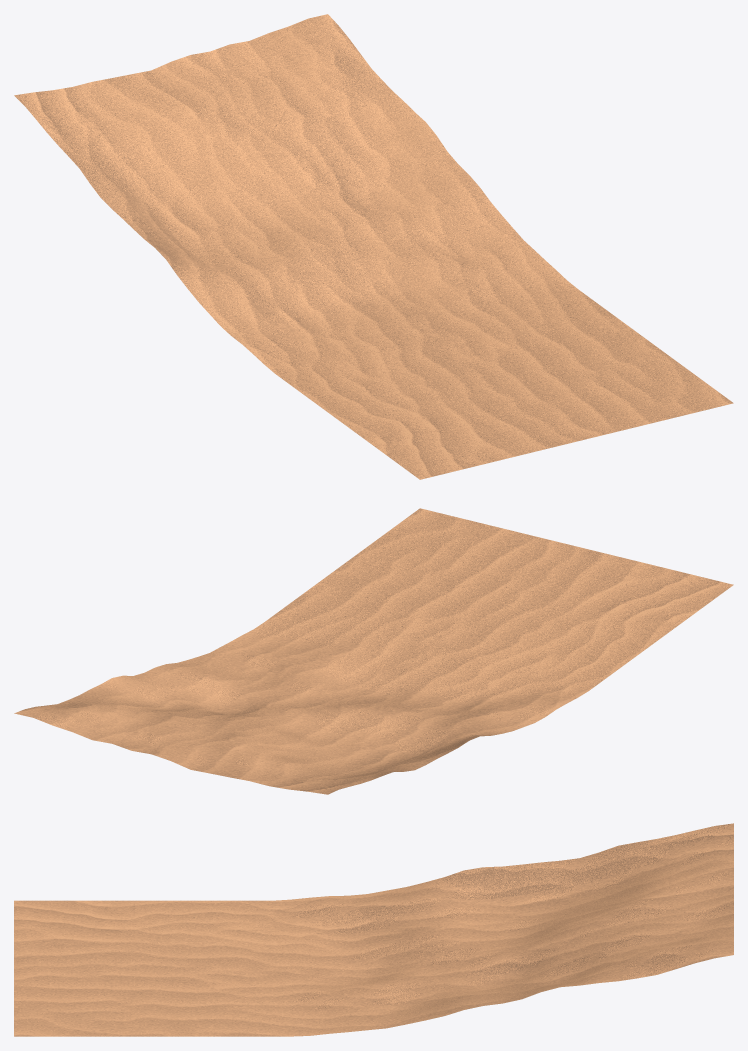
File: map_3.gltf
3 views of the same model, one above another, from view 1: azimuth 30°, elevation 25°; view 2: azimuth 150°, elevation 25°; view 3: azimuth 270°, elevation 25° (orthographic). The views are drawn at different scales.
Parts seen in each view (by area): view 1: landscape4; view 2: landscape4; view 3: landscape4.
Boxes of the visible parts, <box> form: landscape4: <box>14,14,733,479</box>; landscape4: <box>14,508,733,794</box>; landscape4: <box>14,823,733,1036</box>.
Bounding box in the file's own units: 9.38 × 2.63 × 21.
Materials: 1 (1 with a texture image).
